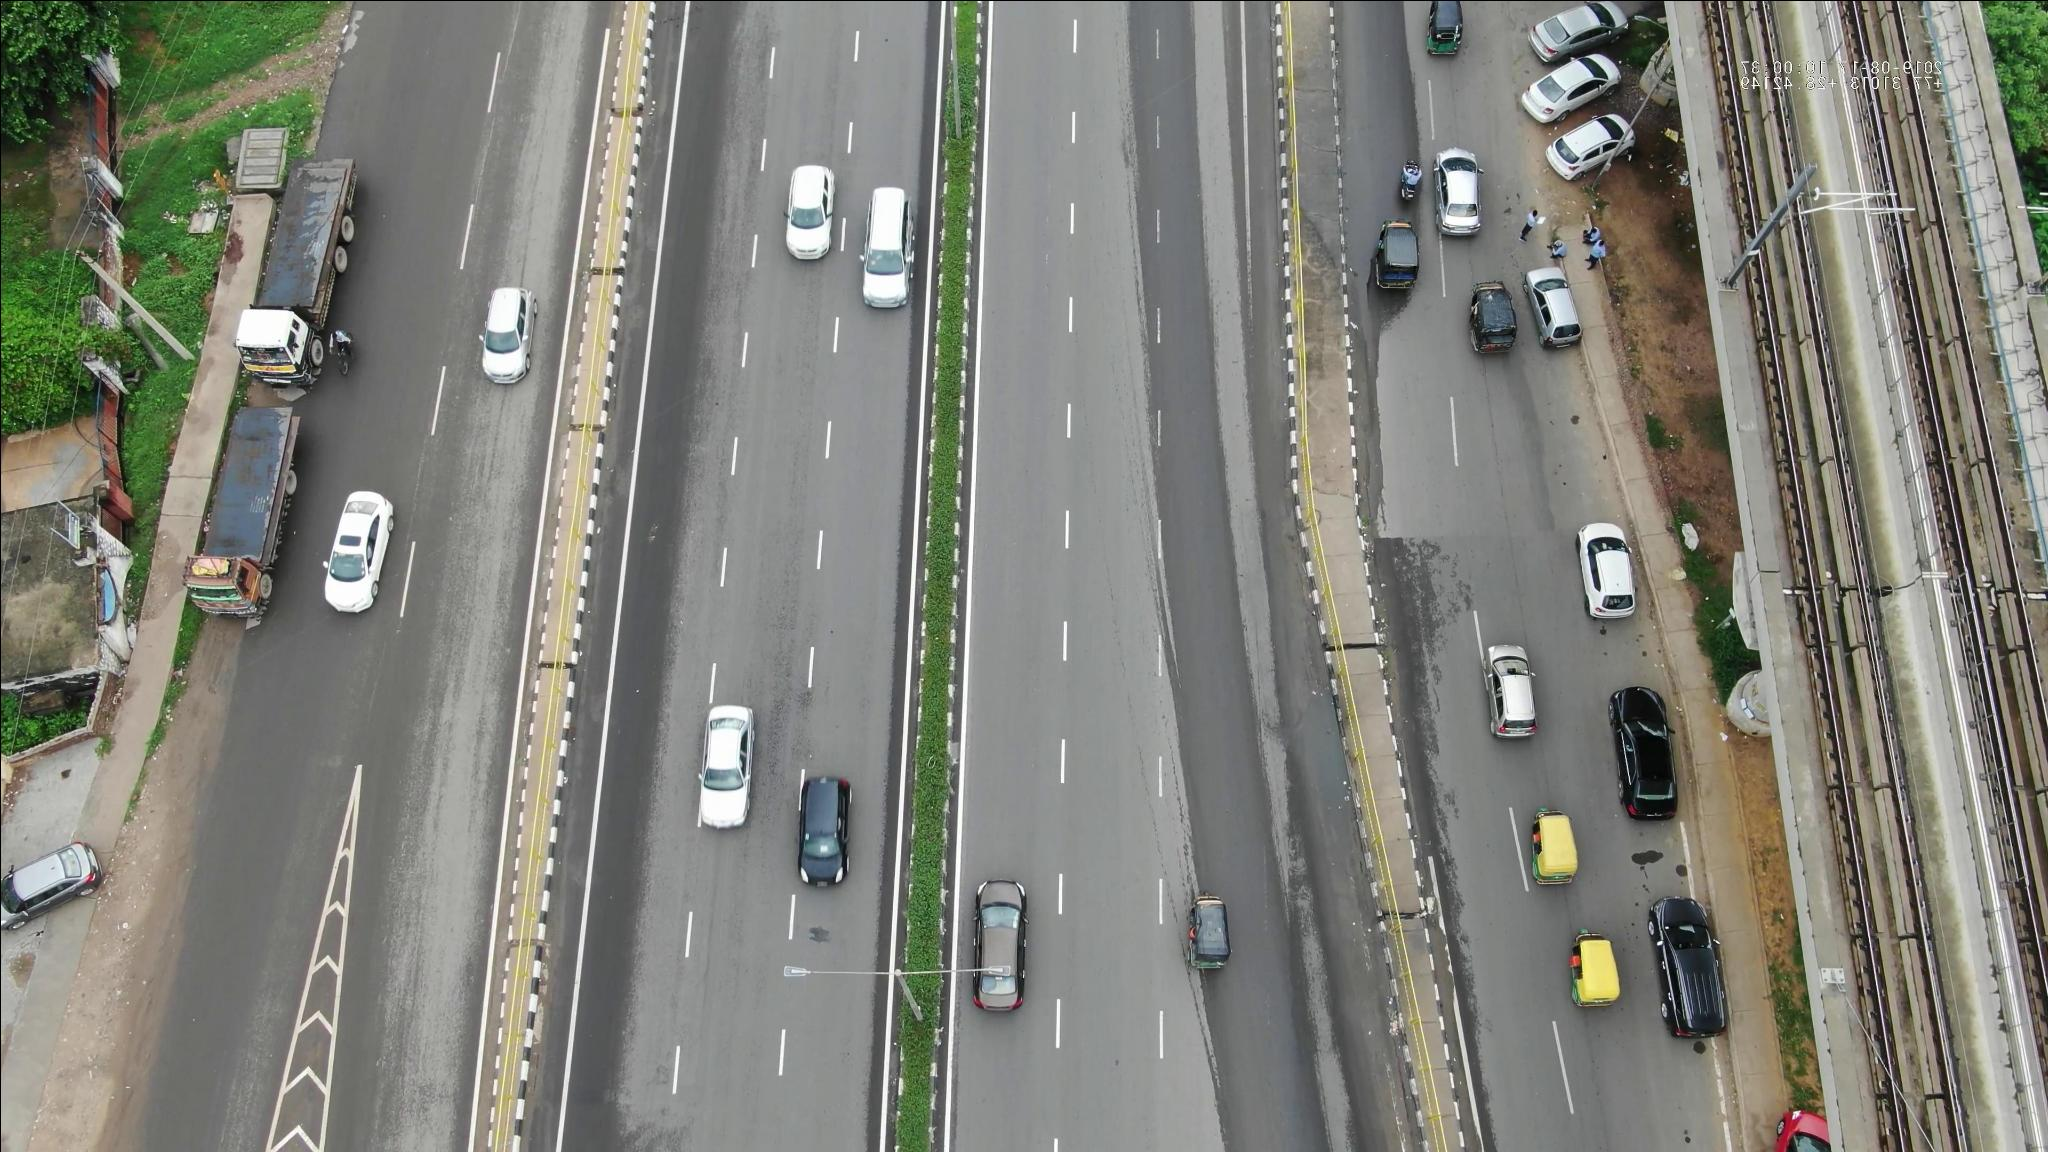Muddy_road: (91, 917, 212, 1152)
